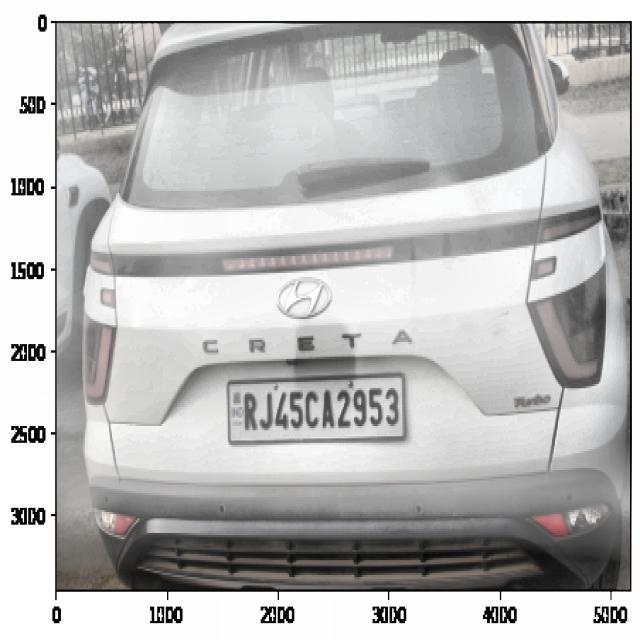license_plate: (238, 379, 403, 442)
